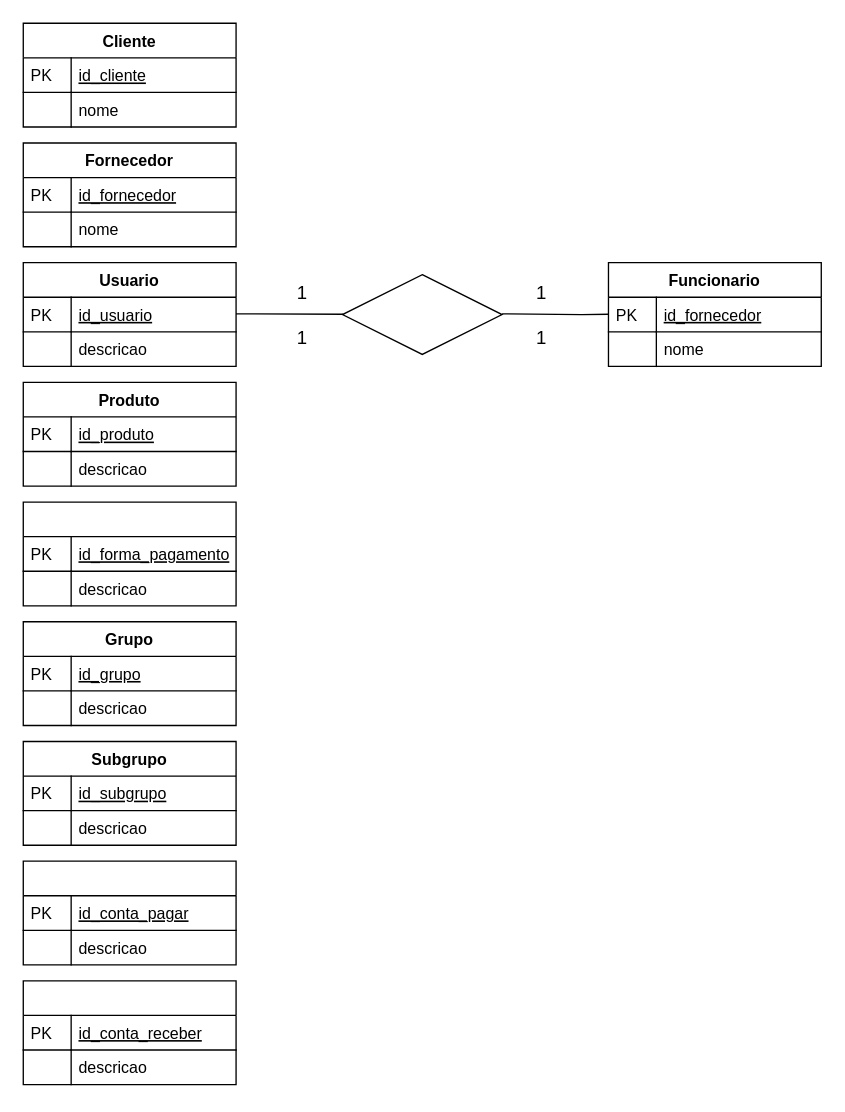
This 845x1112 diagram has some shape labels left out. Each missing label, with the box of its shape:
Conta a Pagar: (22, 860, 236, 965)
Conta a Receber: (22, 980, 236, 1085)
Forma de Pagamento: (22, 501, 236, 606)
Possui: (341, 273, 502, 354)
